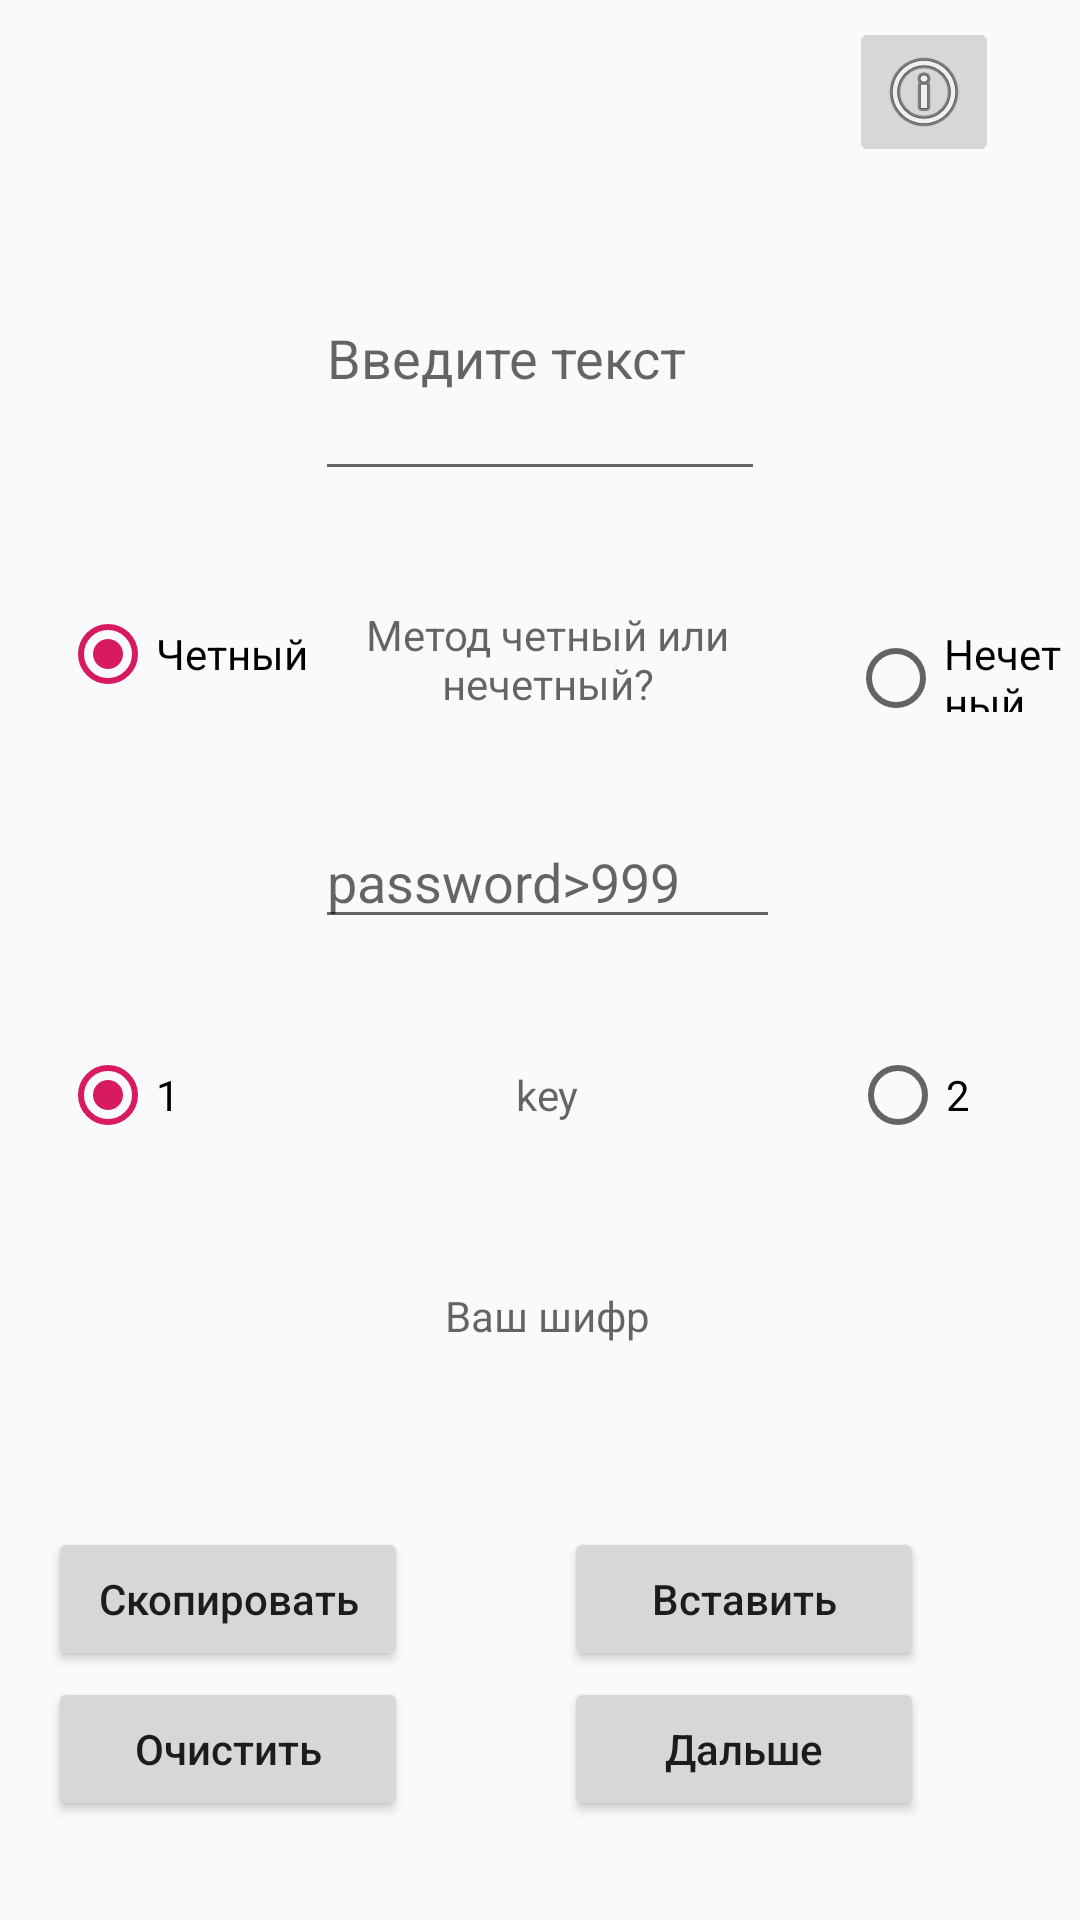

Where to tap for icons on this 1080px×1920px app screen, as point (x, y):
info details: point (924, 92)
